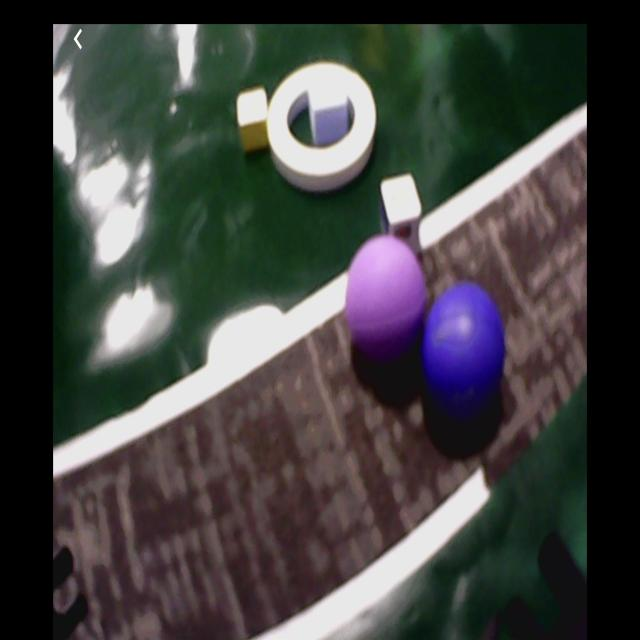ball: (347, 234, 428, 355), (424, 287, 507, 402)
